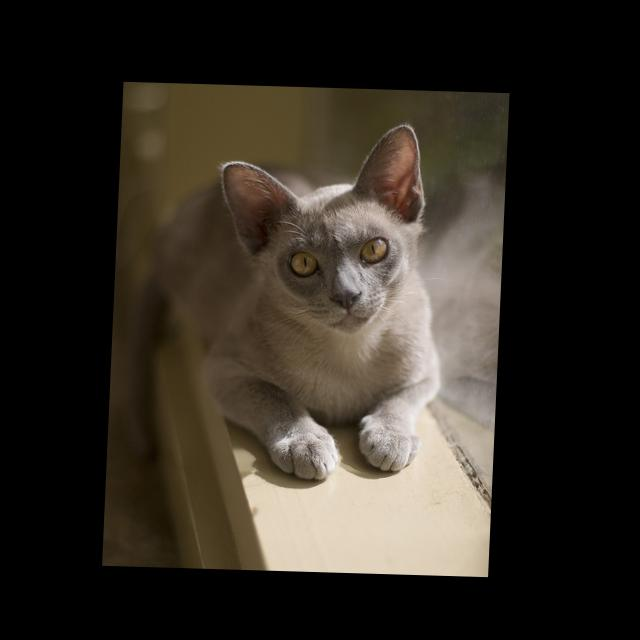animals: (224, 120, 424, 306)
